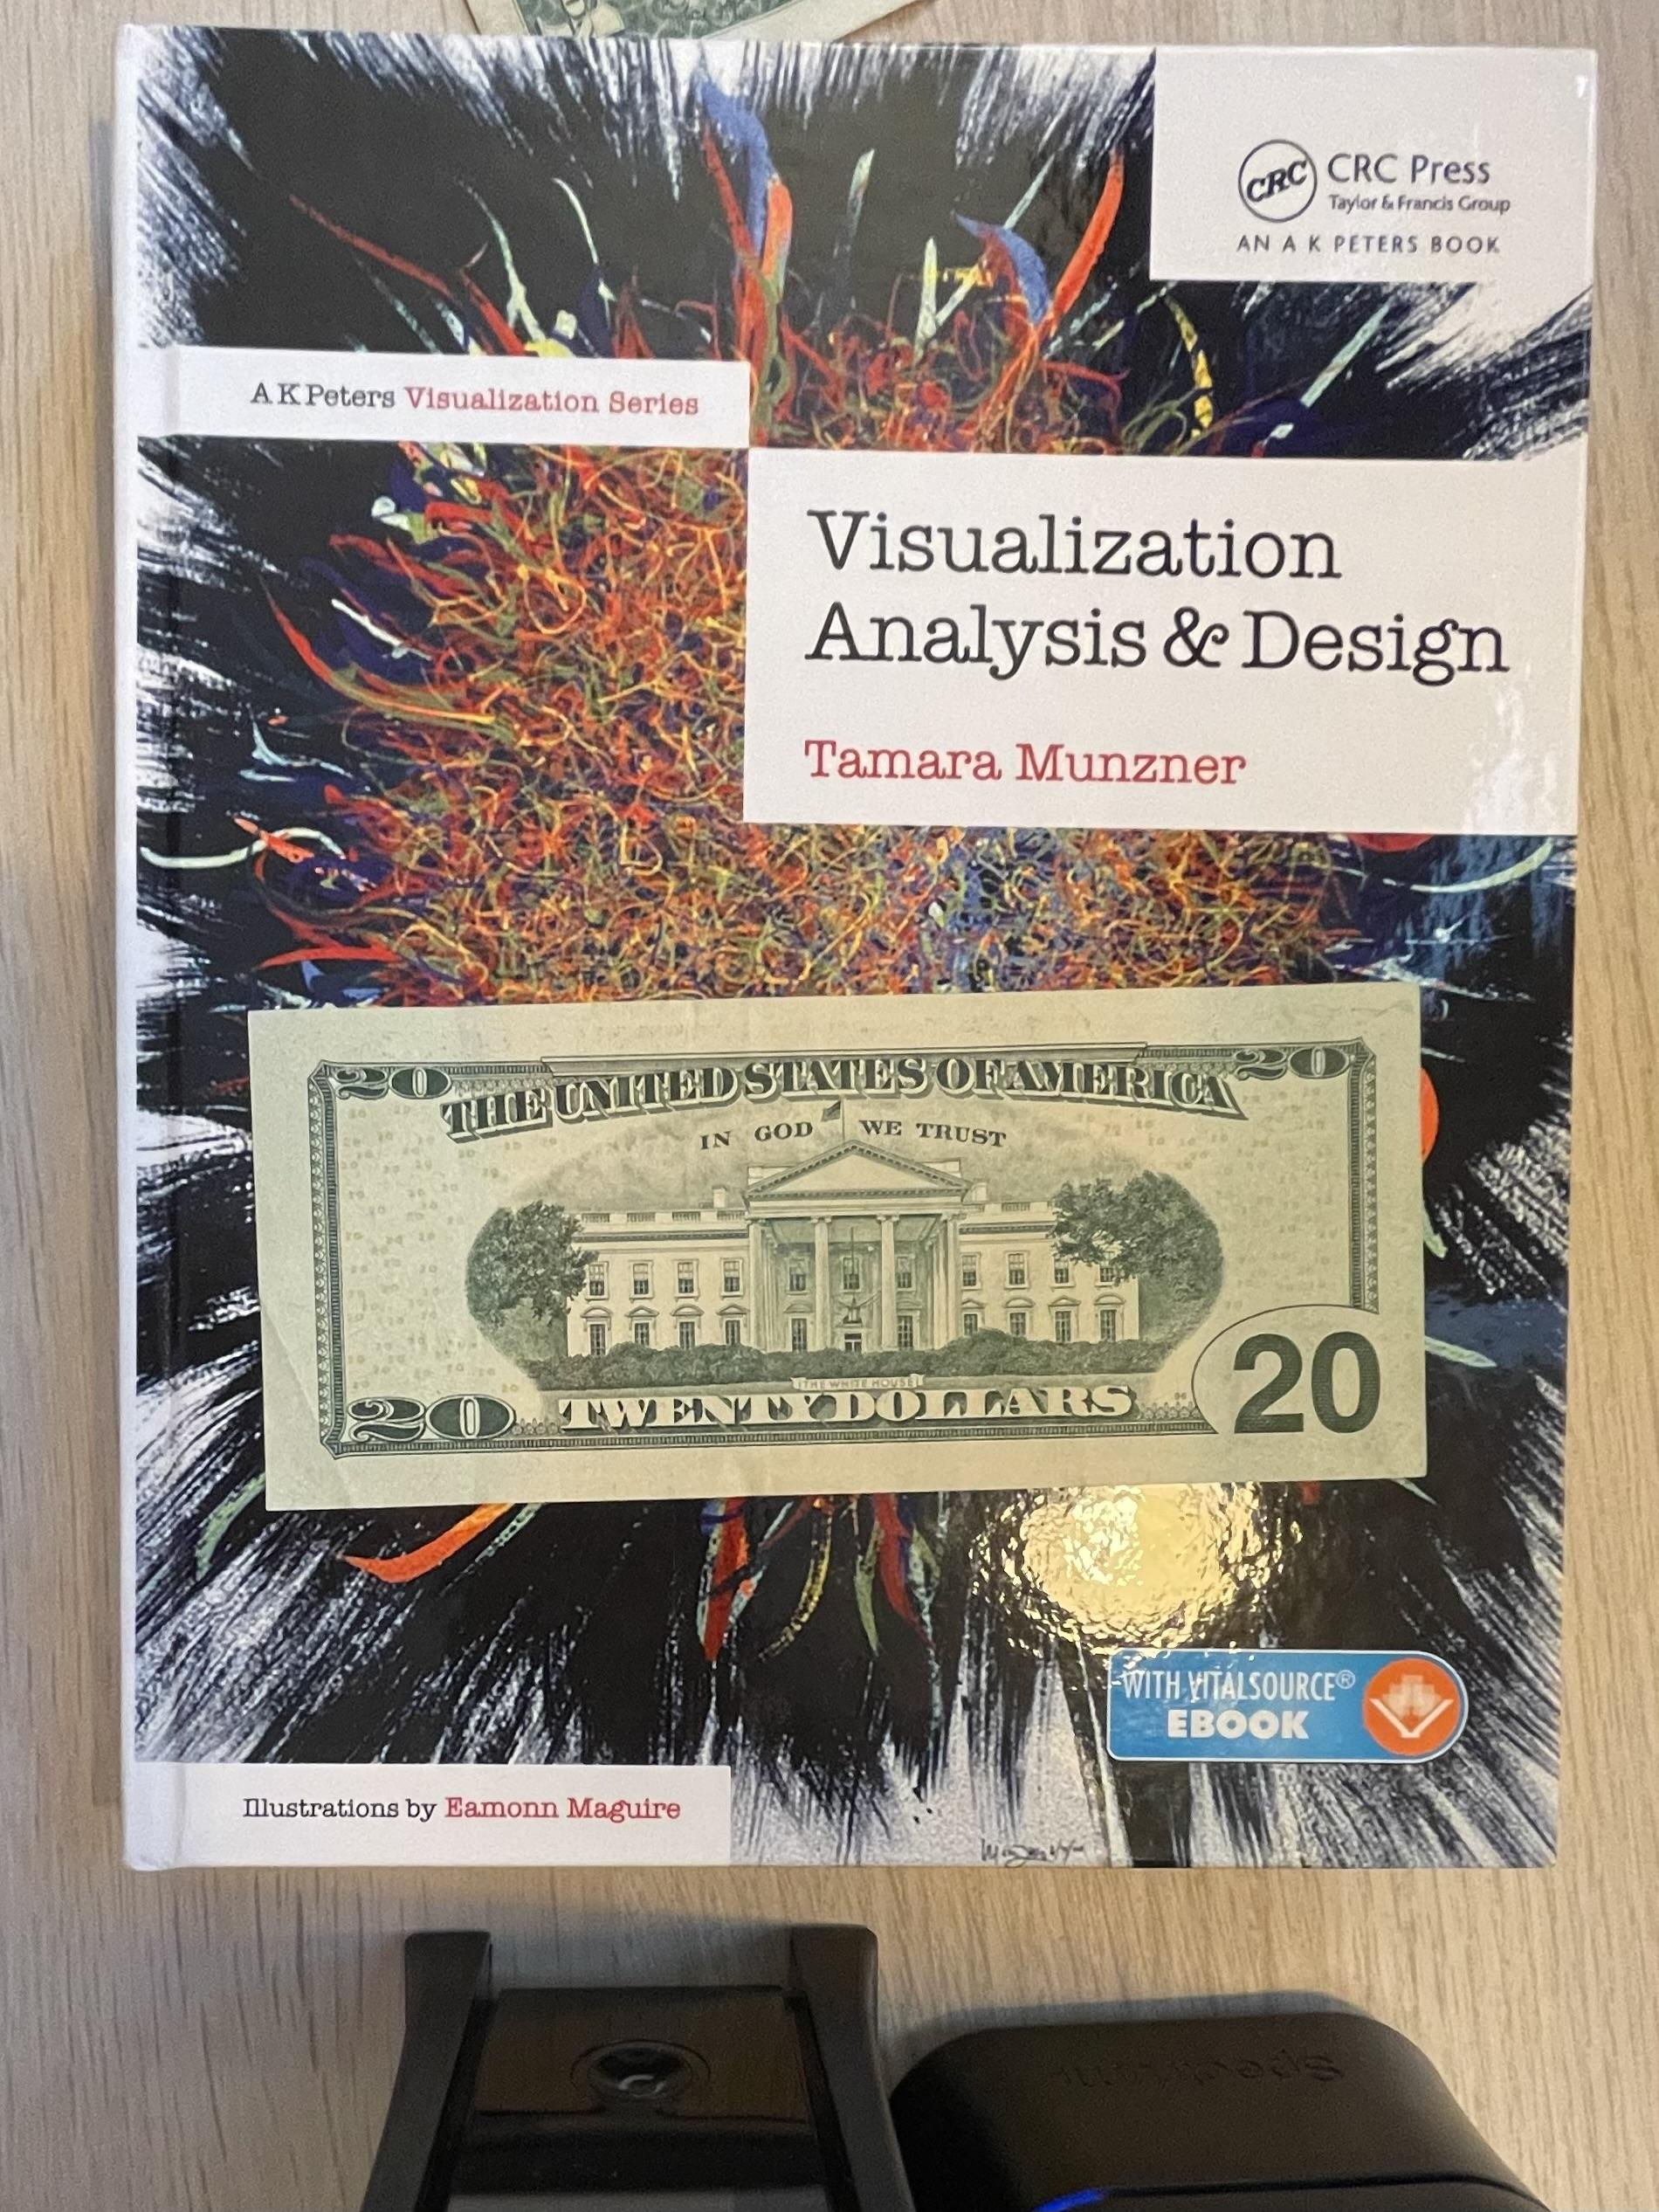TwentyBill: (246, 980, 1429, 1513)
